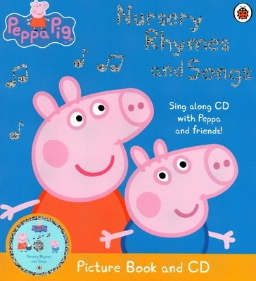Peppa: (1, 72, 156, 255)
